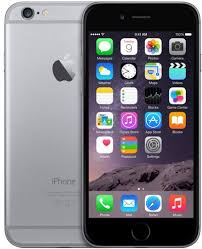iphone: (1, 1, 200, 247), (80, 1, 202, 247)
iphone6: (78, 1, 200, 247)
